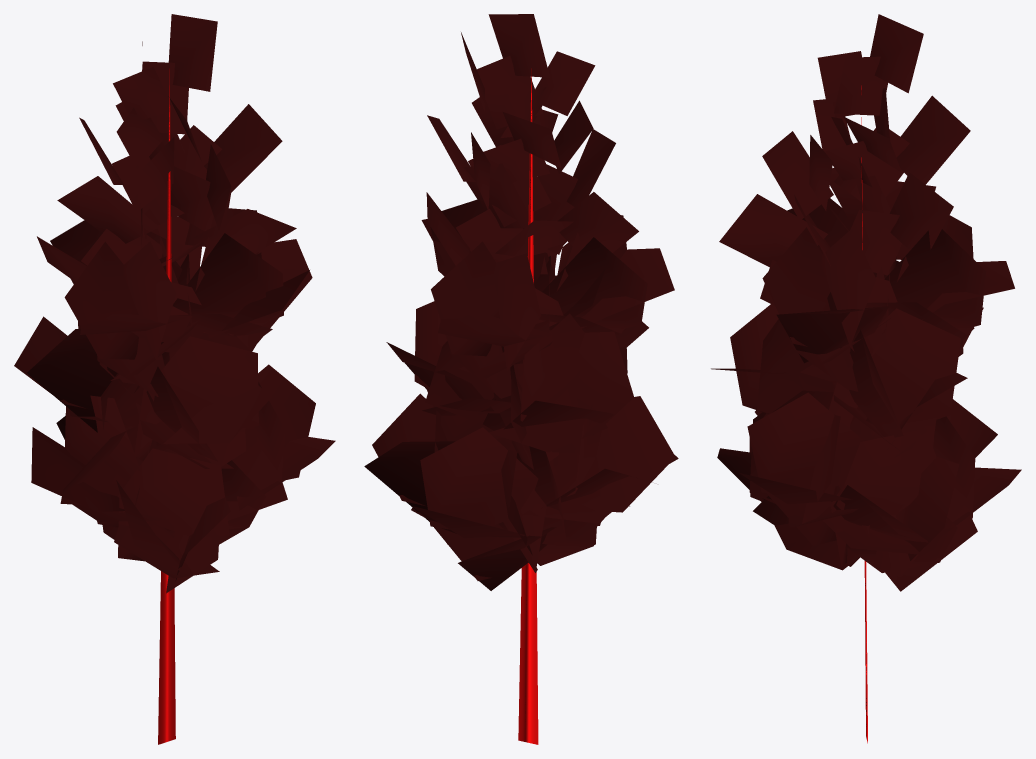
Rendered from SM_Tree_Birch_03_LOD01.fbx.
3 views of the same model, side by side, from view 1: azimuth 30°, elevation 25°; view 2: azimuth 150°, elevation 25°; view 3: azimuth 270°, elevation 25° (orthographic).
Visible parts, largest first — view 1: SM_Tree_Birch_03_LOD01; view 2: SM_Tree_Birch_03_LOD01; view 3: SM_Tree_Birch_03_LOD01.
Part boxes in pixels (x1=…): SM_Tree_Birch_03_LOD01: x1=14, y1=14, x2=335, y2=744; SM_Tree_Birch_03_LOD01: x1=364, y1=14, x2=678, y2=744; SM_Tree_Birch_03_LOD01: x1=711, y1=14, x2=1021, y2=743.
Size of the model in its own units: 214 by 537 by 212.
